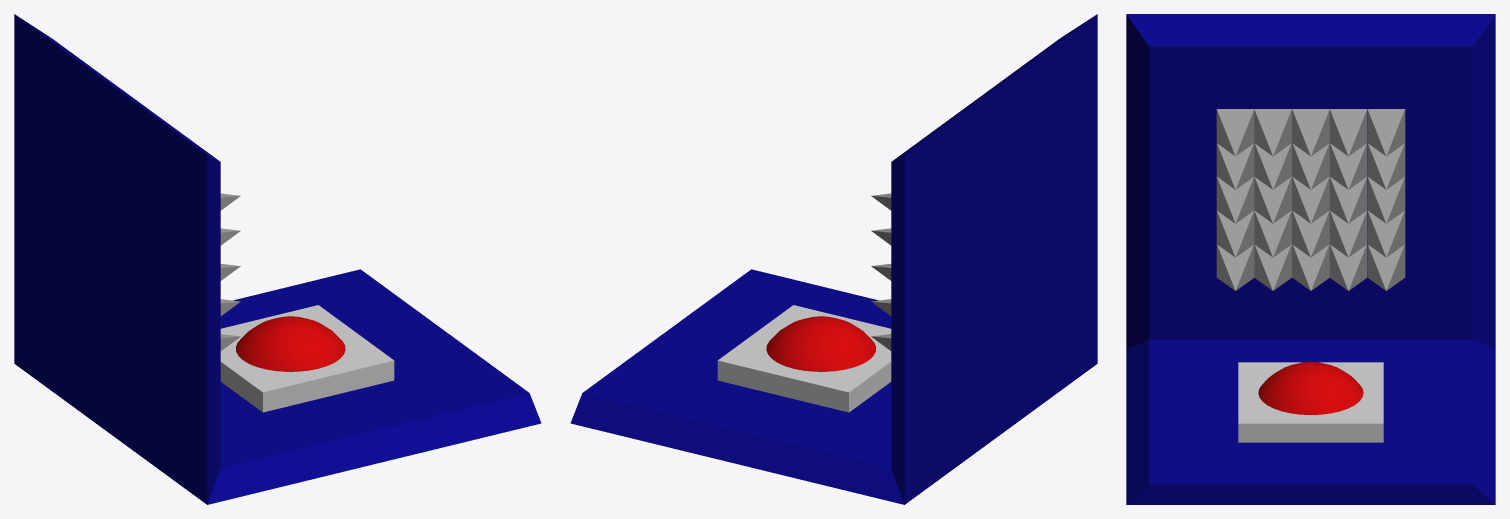
The model's file is spikewall.fbx.
3 renders of one model, left to right at view 1: azimuth 30°, elevation 25°; view 2: azimuth 150°, elevation 25°; view 3: azimuth 270°, elevation 25°, orthographic. The views are drawn at different scales.
Parts seen in each view (by area): view 1: Cube.001; view 2: Cube.001; view 3: Cube.001.
Boxes of the visible parts, x1,y1,x2,y2 form: Cube.001: (14,14,541,504); Cube.001: (570,14,1097,504); Cube.001: (1126,14,1495,504).
Bounding box in the file's own units: 200 × 231 × 200.
